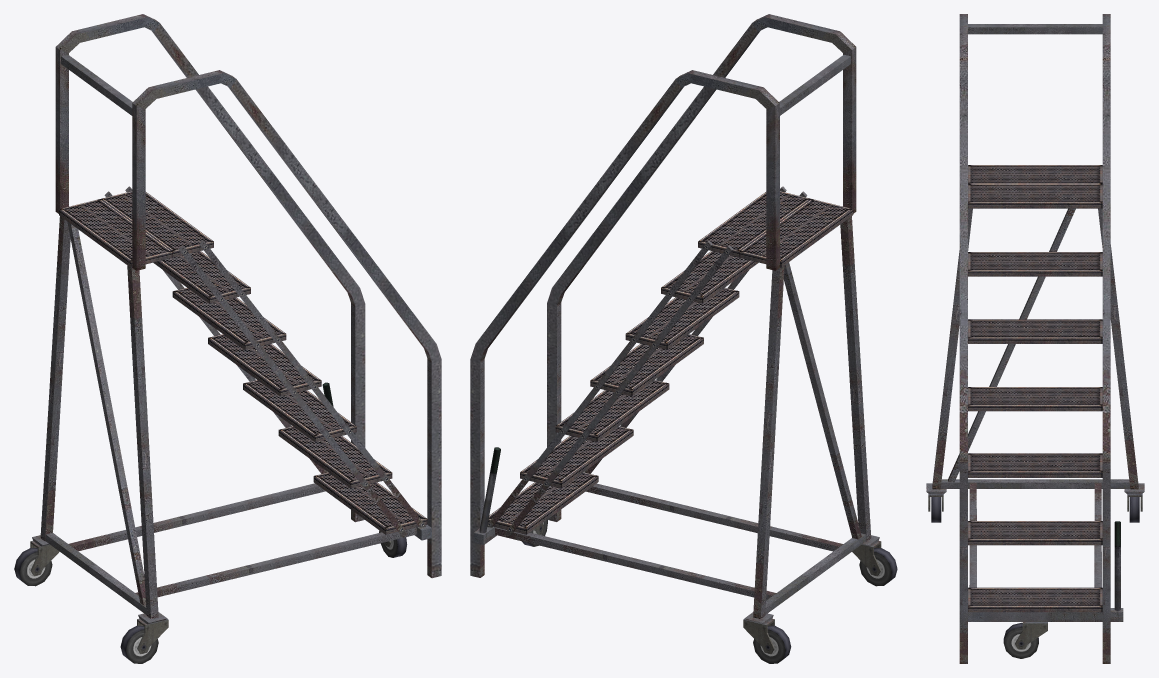
File: mobile_stairs_1.fbx
3 views of the same model, side by side, from view 1: azimuth 30°, elevation 25°; view 2: azimuth 150°, elevation 25°; view 3: azimuth 270°, elevation 25° (orthographic). The views are drawn at different scales.
Visible parts, largest first — view 1: Box06; view 2: Box06; view 3: Box06.
Boxes of the visible parts, left/top/right/bottom form: Box06: left=14, top=14, right=441, bottom=663; Box06: left=470, top=14, right=897, bottom=663; Box06: left=926, top=14, right=1144, bottom=663.
Bounding box in the file's own units: 42.16 × 67.67 × 25.82.
